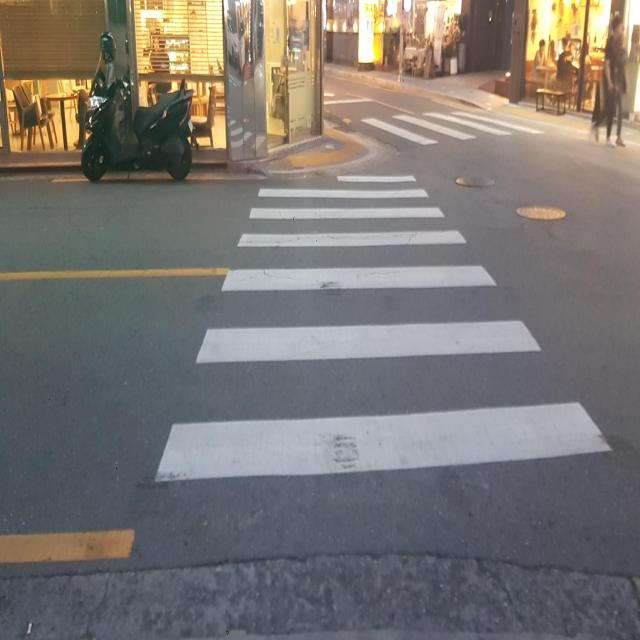횡단보도: (152, 172, 617, 486), (358, 104, 544, 150)
